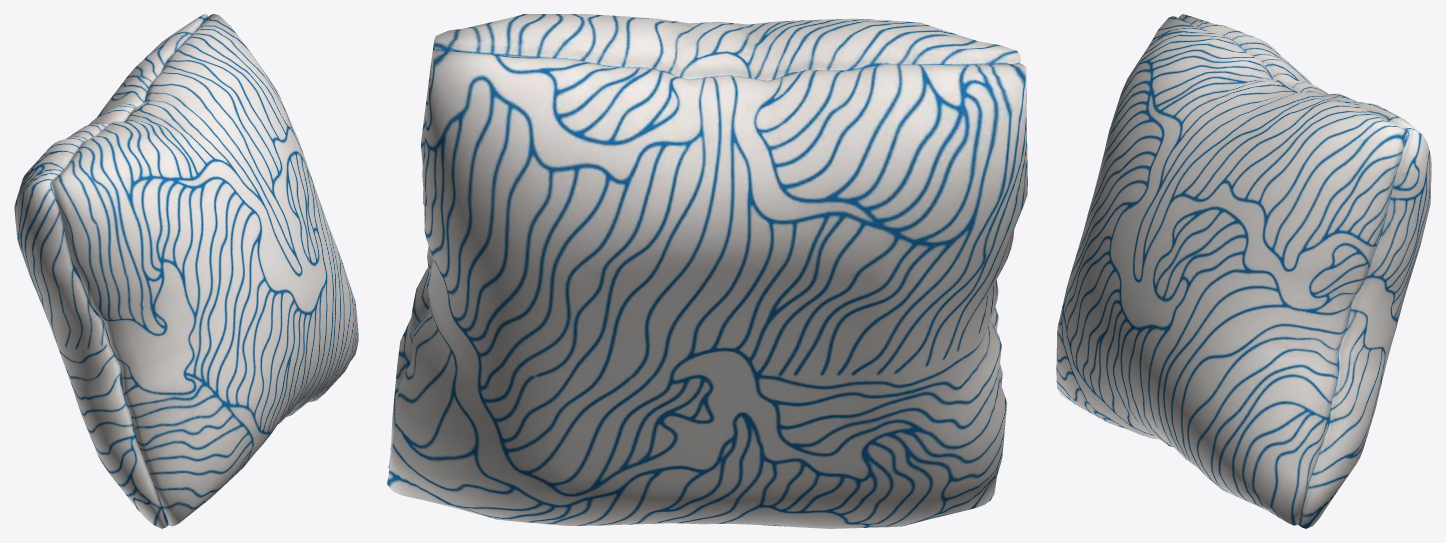
The model's file is cushion_waves.glb.
3 views of the same model, side by side, from view 1: azimuth 30°, elevation 25°; view 2: azimuth 150°, elevation 25°; view 3: azimuth 270°, elevation 25° (orthographic). The views are drawn at different scales.
Visible parts, largest first — view 1: Cushion Retopo_FinalMat_0; view 2: Cushion Retopo_FinalMat_0; view 3: Cushion Retopo_FinalMat_0.
Part boxes in pixels (x1=…): Cushion Retopo_FinalMat_0: x1=14, y1=14, x2=358, y2=528; Cushion Retopo_FinalMat_0: x1=387, y1=14, x2=1027, y2=528; Cushion Retopo_FinalMat_0: x1=1056, y1=14, x2=1431, y2=528.
Bounding box in the file's own units: 0.5 × 0.4676 × 0.418.
1 material, 1 textured.
